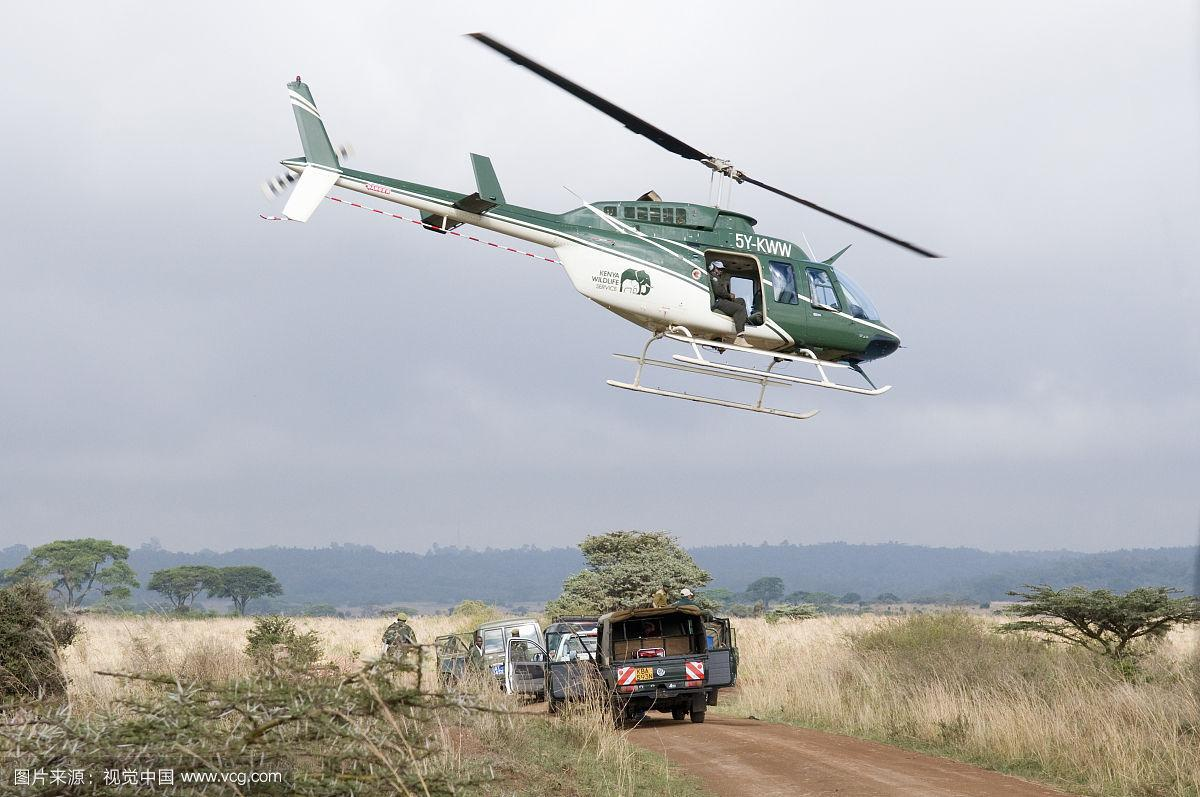airplane: (237, 24, 951, 431)
